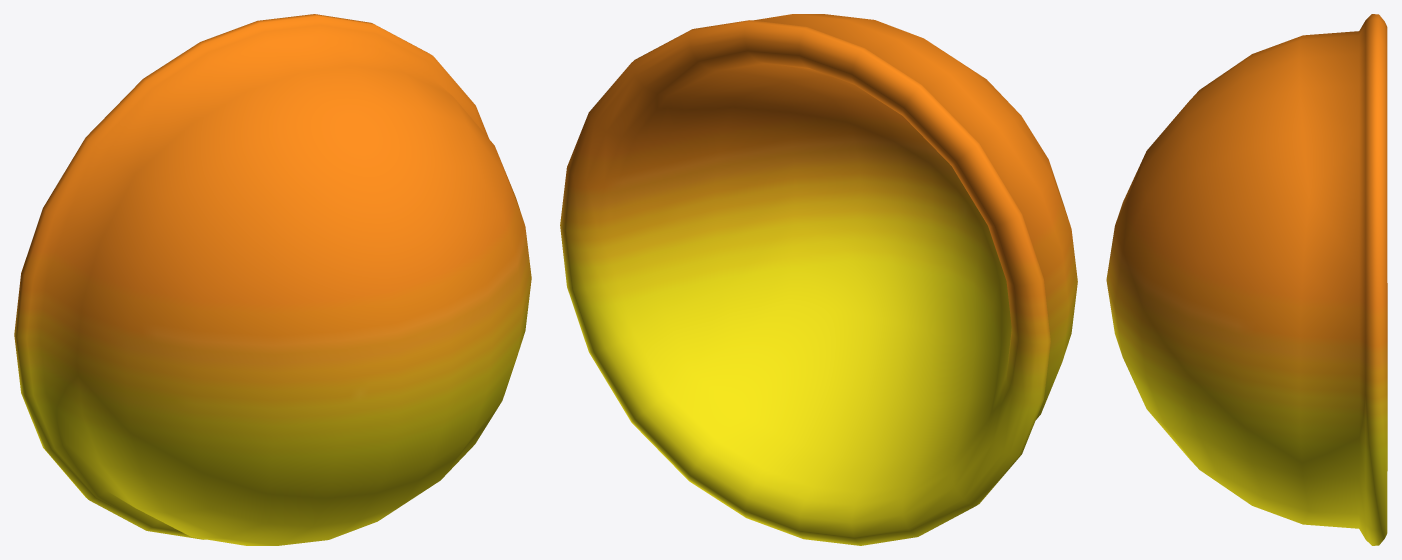
File: AmongUs_Cut_02_Pupka_001_0.FBX
3 views of the same model, side by side, from view 1: azimuth 30°, elevation 25°; view 2: azimuth 150°, elevation 25°; view 3: azimuth 270°, elevation 25° (orthographic). The views are drawn at different scales.
Parts seen in each view (by area): view 1: AmongUs_Cut_02_Pupka_001_0; view 2: AmongUs_Cut_02_Pupka_001_0; view 3: AmongUs_Cut_02_Pupka_001_0.
Boxes of the visible parts, <box> form: AmongUs_Cut_02_Pupka_001_0: <box>14,14,531,545</box>; AmongUs_Cut_02_Pupka_001_0: <box>560,14,1077,545</box>; AmongUs_Cut_02_Pupka_001_0: <box>1106,14,1387,545</box>.
Bounding box in the file's own units: 0.7857 × 0.4145 × 0.7857.
